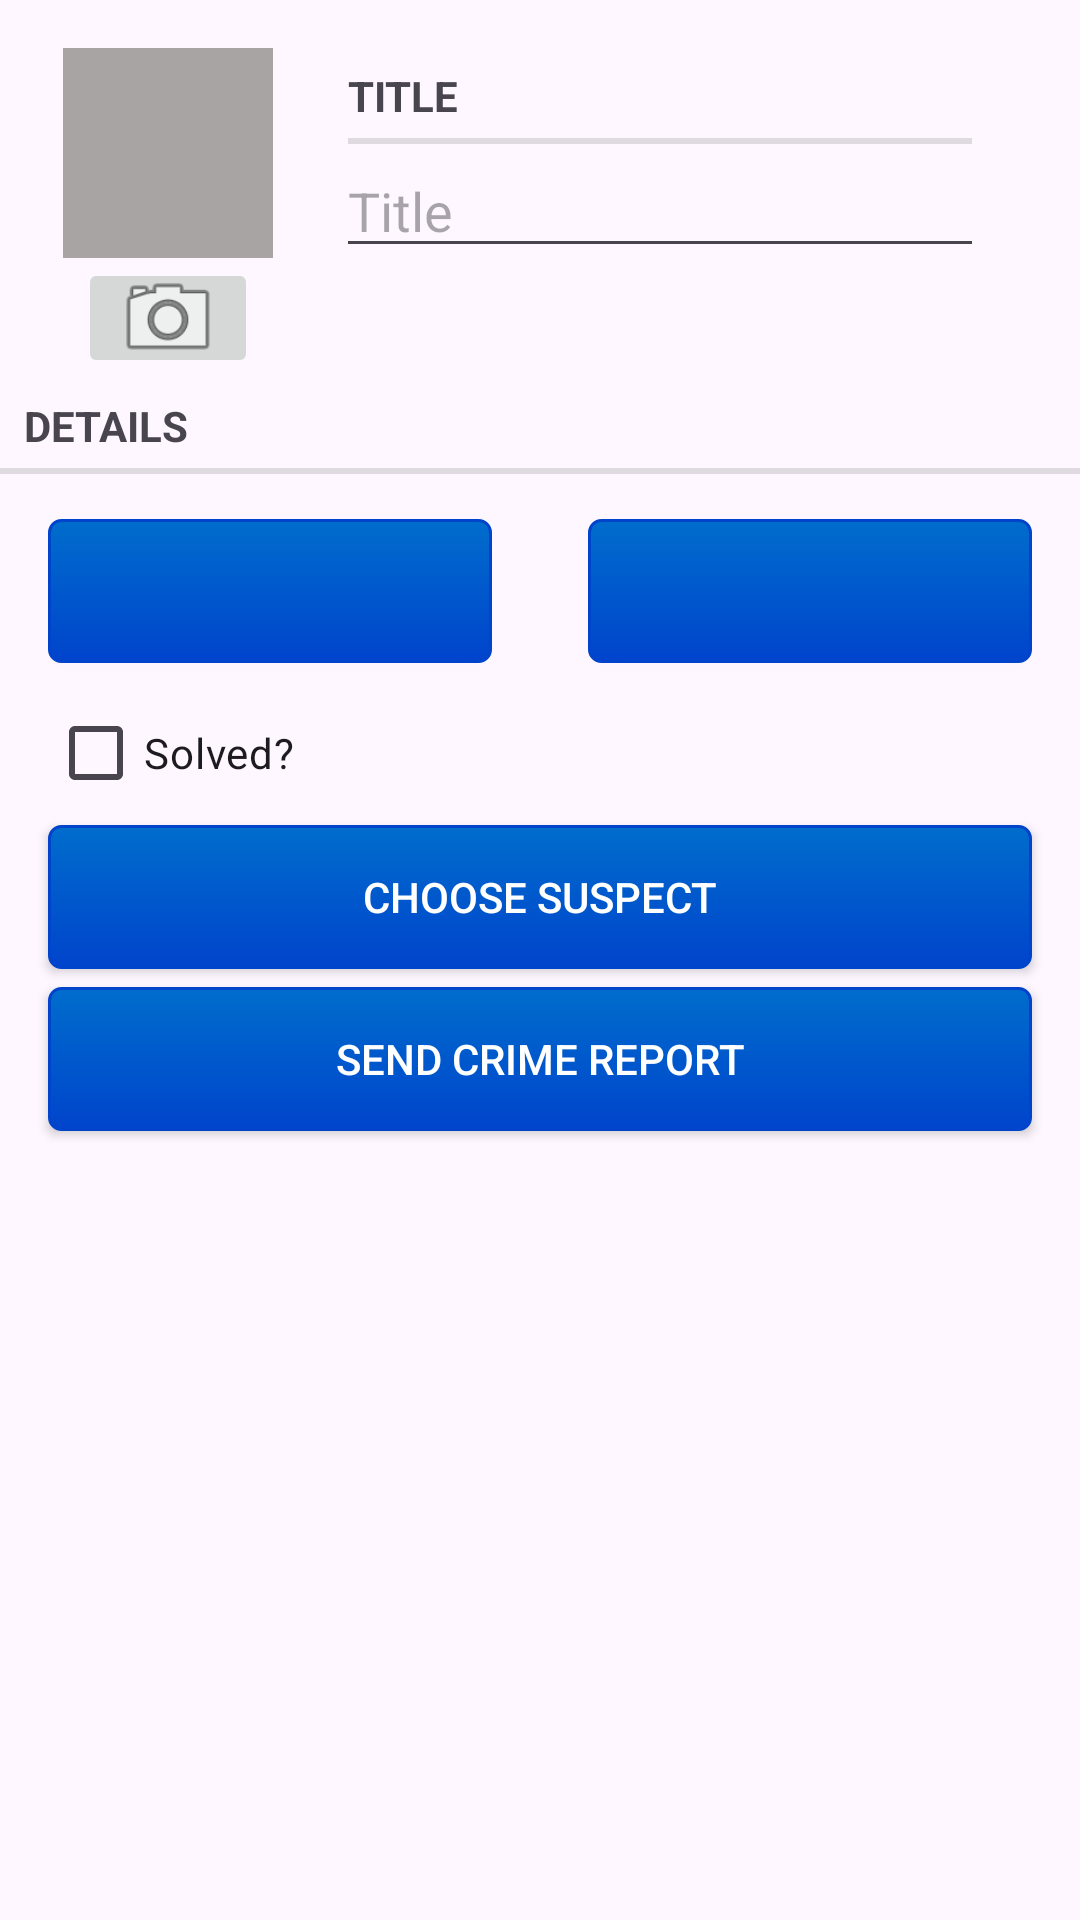

Where icons sit on this 1080×1920 app screen, as (x1, y1, x2, y2):
camera: (90, 276, 246, 360)
